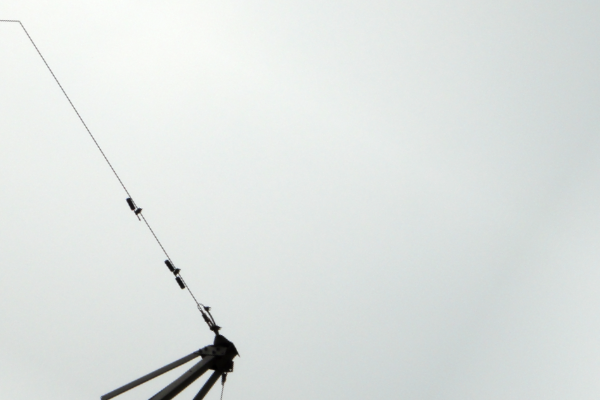damper: (163, 258, 185, 291)
damper_defect: (125, 197, 142, 225)
